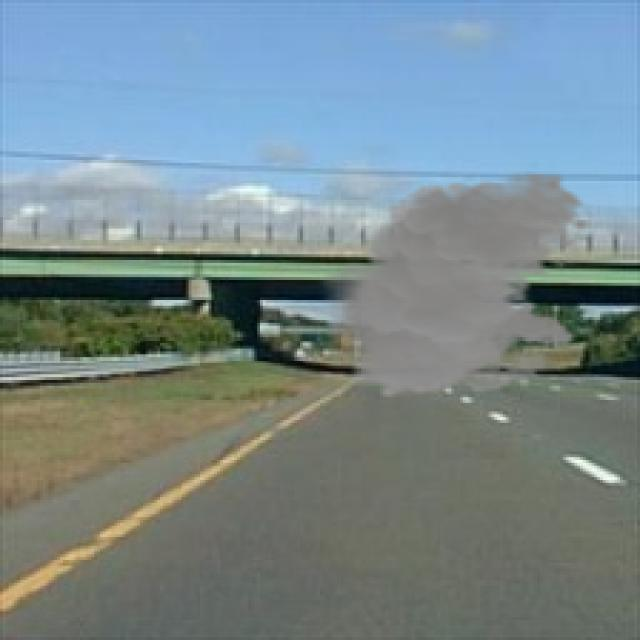smoke: (312, 171, 592, 400)
